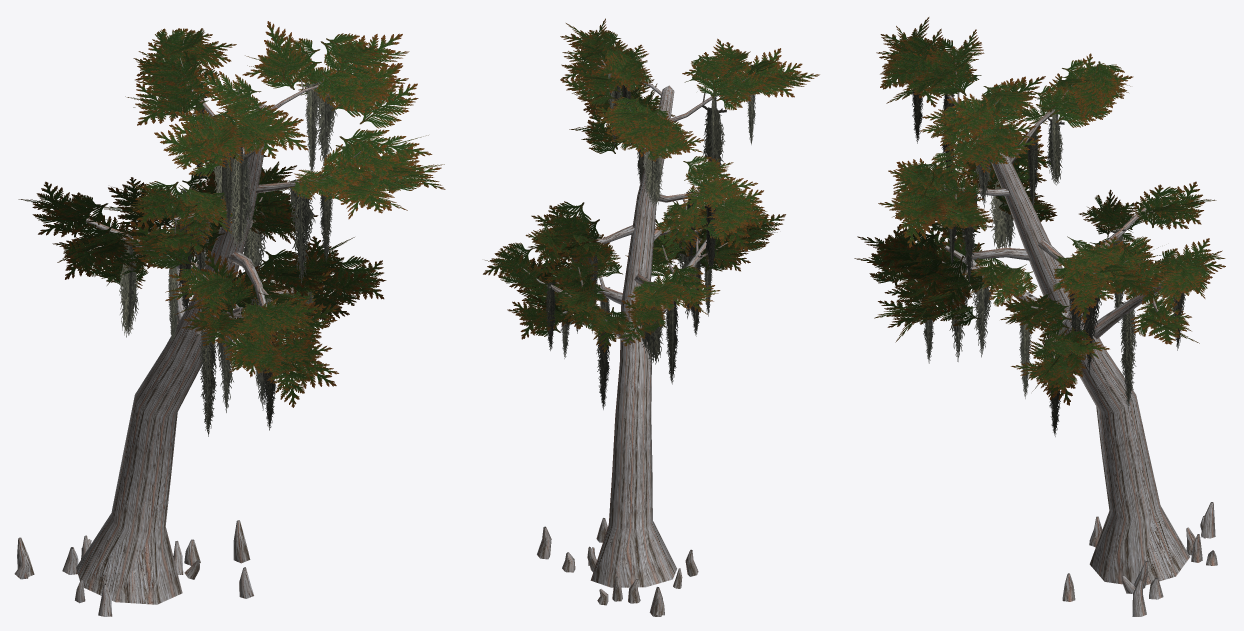
File: nature-black-swamp-cypress_v4.glb
The picture shows the model from 3 angles, left to right: view 1: azimuth 30°, elevation 25°; view 2: azimuth 150°, elevation 25°; view 3: azimuth 270°, elevation 25°; orthographic projection. The views are drawn at different scales.
Parts seen in each view (by area): view 1: nature-black-swamp-cypress; view 2: nature-black-swamp-cypress; view 3: nature-black-swamp-cypress.
Boxes of the visible parts, x1,y1,x2,y2 form: nature-black-swamp-cypress: (14,21,445,616); nature-black-swamp-cypress: (483,18,819,616); nature-black-swamp-cypress: (854,17,1225,616).
Size of the model in its own units: 6.22 by 11.54 by 7.42.
2 materials, 2 textured.
